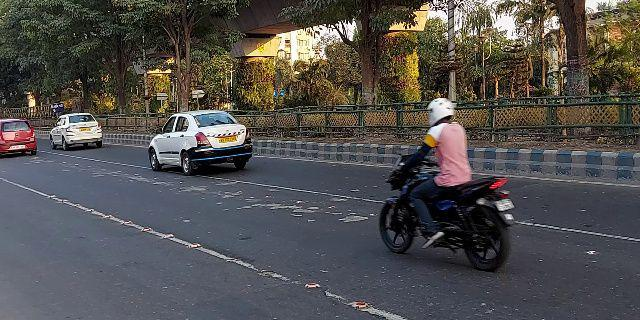Car: (145, 107, 252, 177), (47, 111, 103, 149), (1, 117, 39, 159)
Motorbike: (373, 95, 518, 275)
